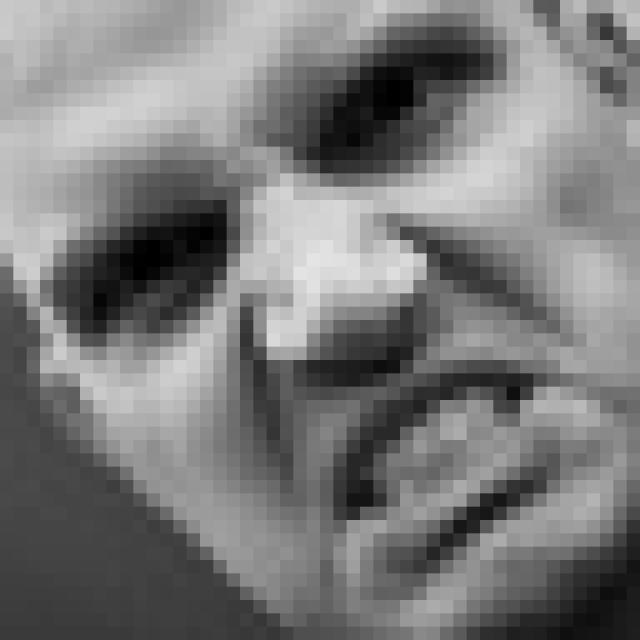angry: (55, 23, 567, 585)
